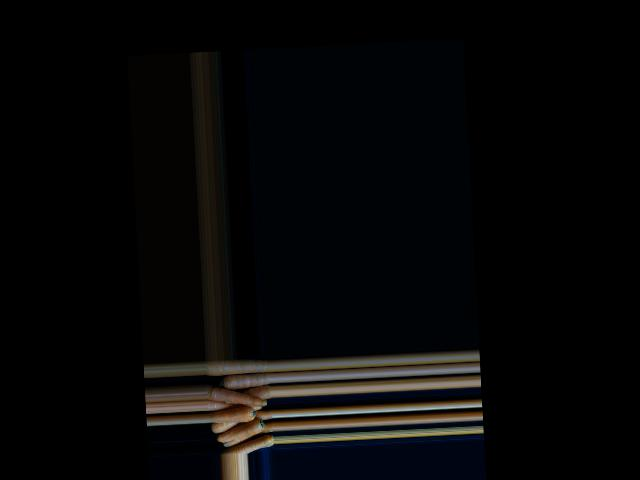carrot: (207, 358, 270, 376)
